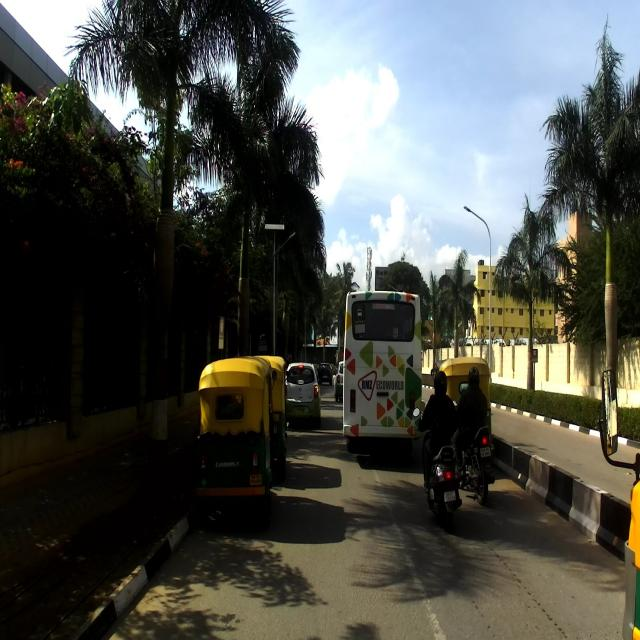autorickshaw: (194, 355, 277, 526), (431, 355, 492, 454)
motorcycle: (446, 398, 495, 506)
scooter: (414, 406, 462, 526)
